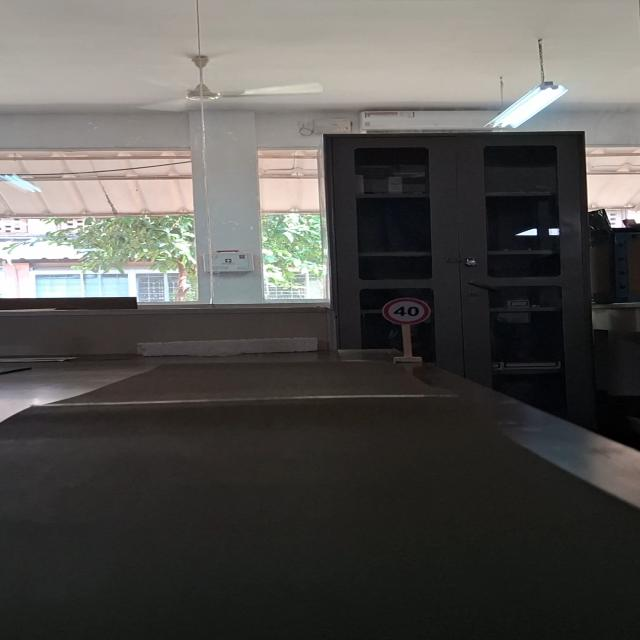Speed40: (378, 296, 440, 326)
